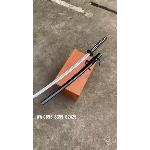Pedang: (32, 34, 112, 106)
